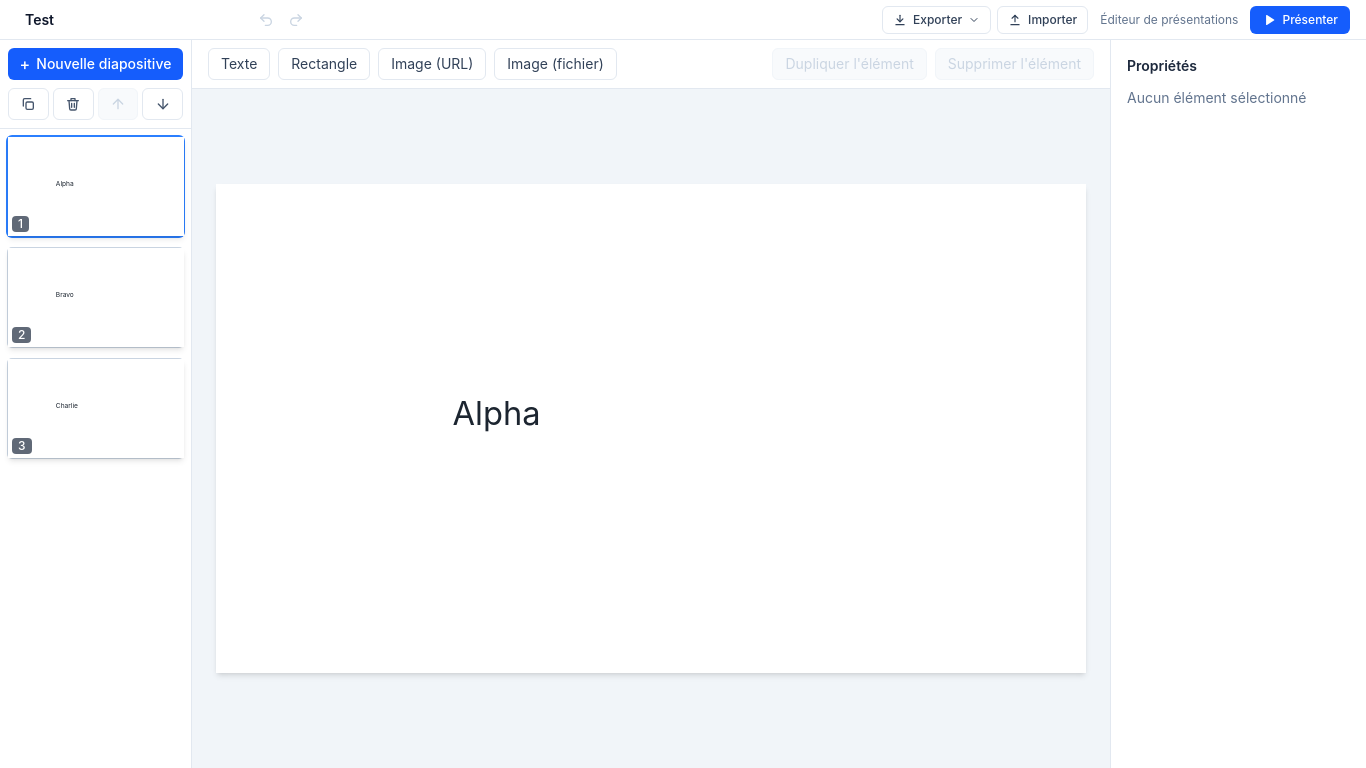
EditorLayout : export PowerPoint › une erreur de l'export affiche le bandeau d'erreur avec le message, sans téléchargement
Click the button "Exporter".
click(937, 20)  # box [882,6,991,34]
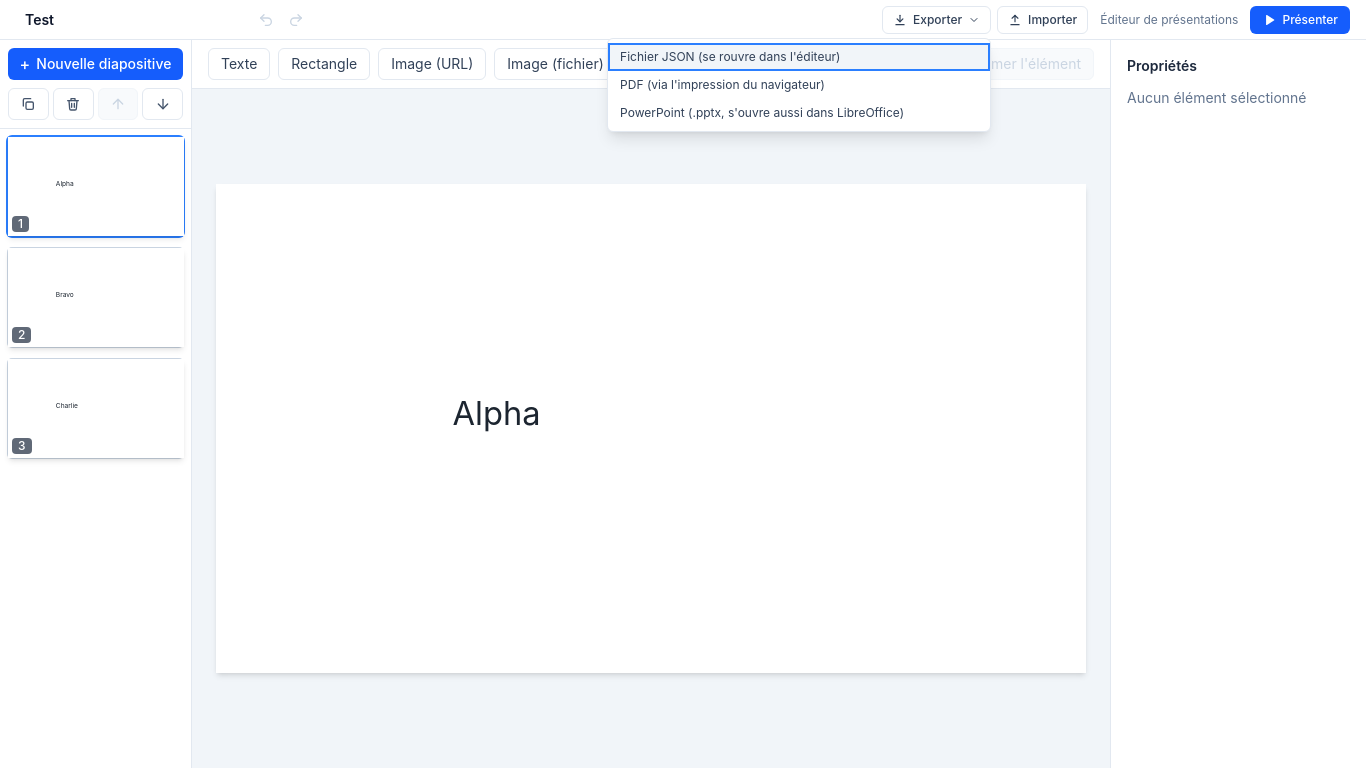
Click the menu item "PowerPoint (.pptx, s'ouvre aussi dans LibreOffice)".
click(799, 112)  # box [608,98,990,126]
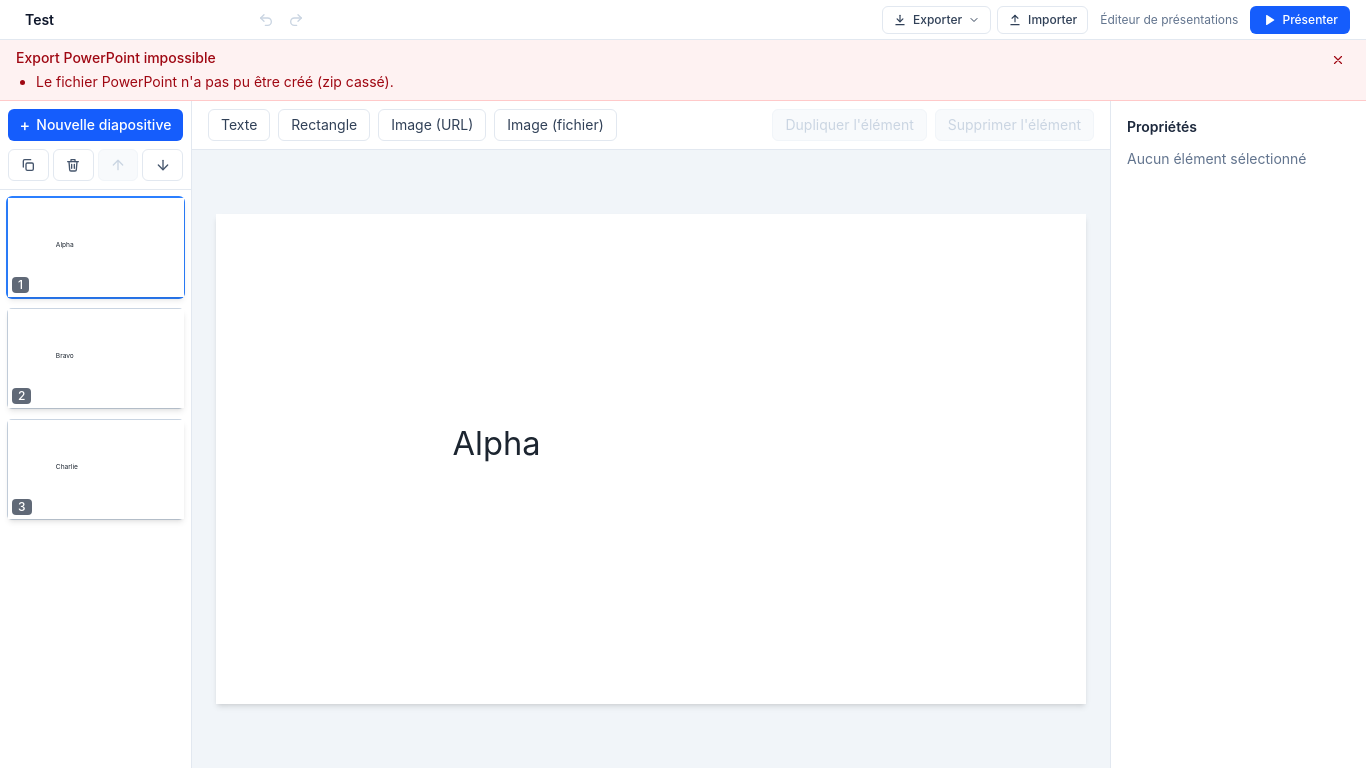
Check: the message shows "Export PowerPoint impossible", box [16,49,216,66]
Check: the message shows "Le fichier PowerPoint n'a pas pu être créé (zip cassé).", box [36,73,394,90]
